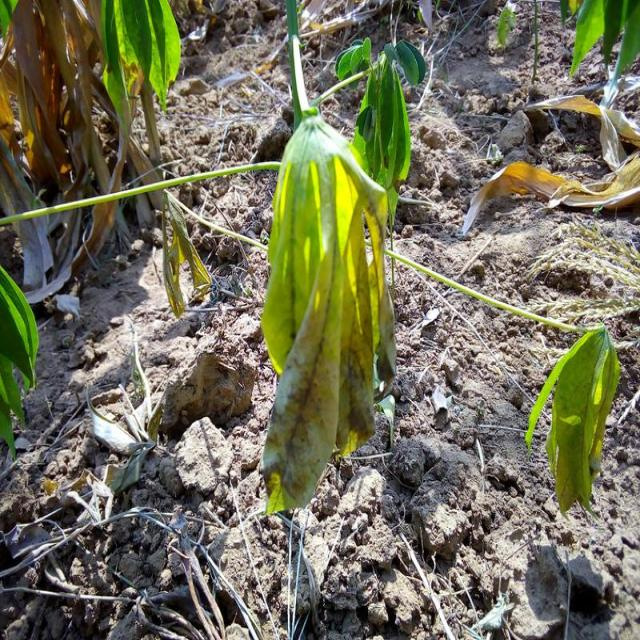cassava leaf: (258, 109, 392, 515), (524, 322, 620, 515)
